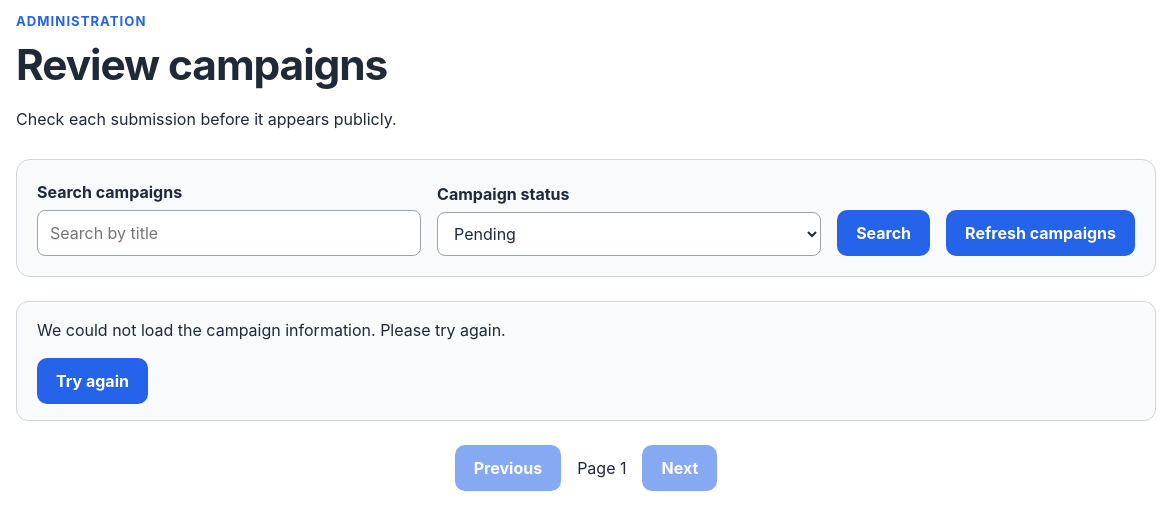
Scenario: admin campaign queue › retries failed requests without treating them as an empty queue
Expected: the message "We could not load the campaign information. Please try again. Try again" is shown, 16,301 -> 1156,421
Expected: the text "No campaigns found." is not shown
Step 1. Click the button "Try again" → (92, 381), box 37,358 -> 148,404
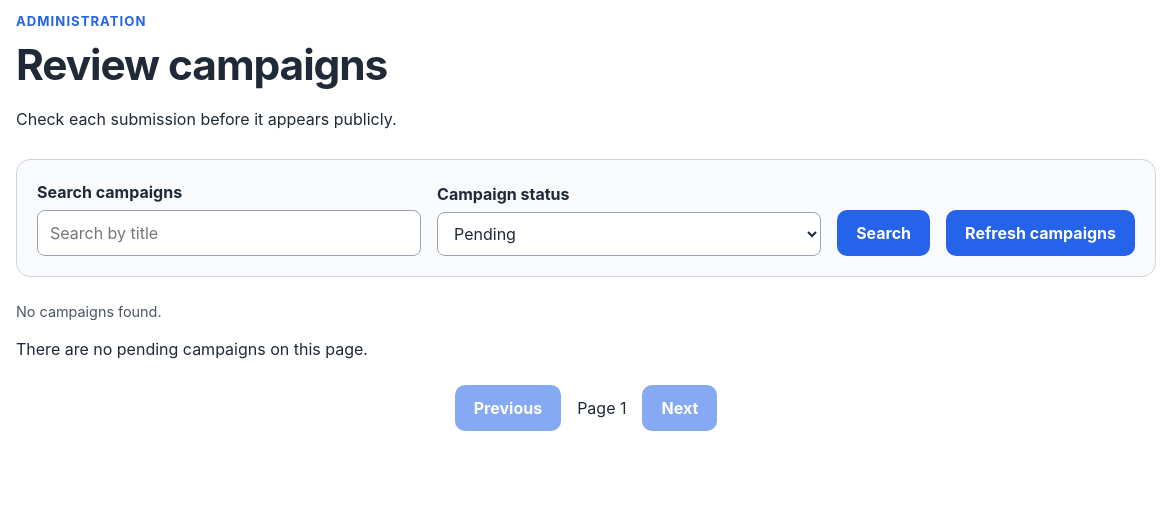
Expected: the text "No campaigns found." is shown, 16,303 -> 162,320
